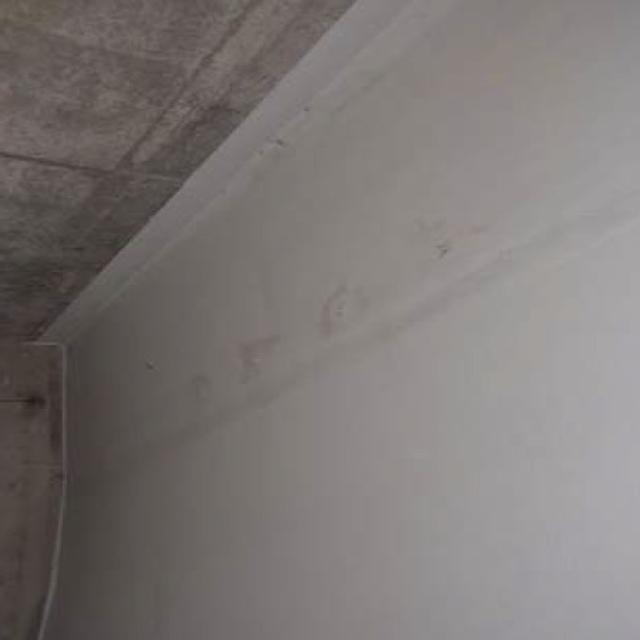freelime: (37, 338, 83, 636), (307, 267, 370, 349)
